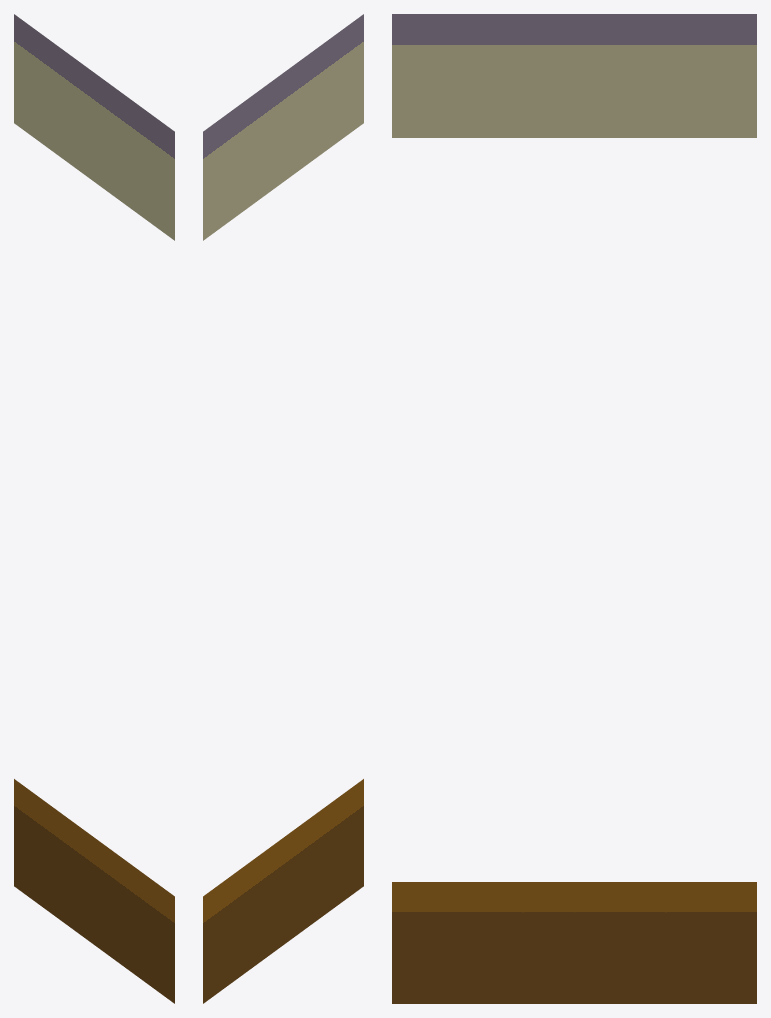
3 renders of one model, left to right at view 1: azimuth 30°, elevation 25°; view 2: azimuth 150°, elevation 25°; view 3: azimuth 270°, elevation 25°, orthographic. The views are drawn at different scales.
Bounding box in the file's own units: 0 × 2.99 × 1.
Materials: 1 (1 with a texture image).
